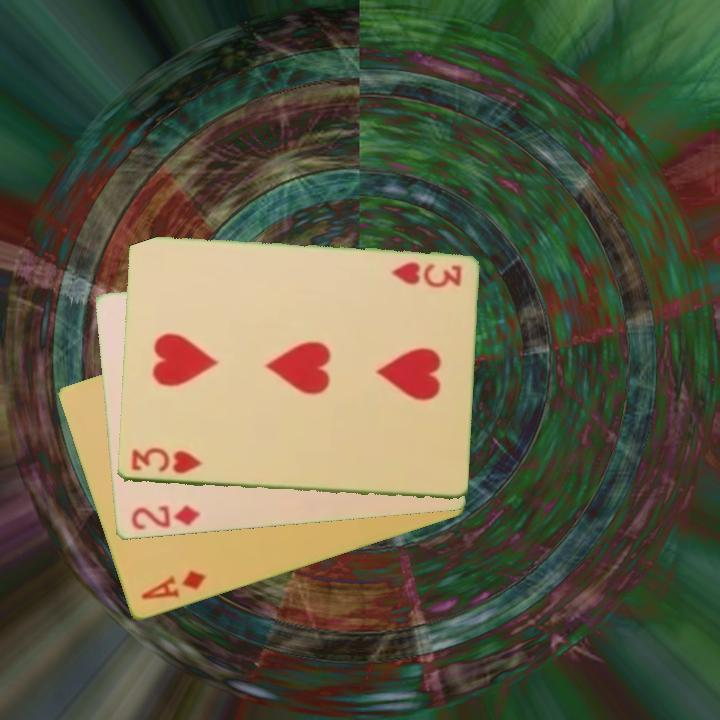2d: (127, 502, 203, 533)
3h: (127, 445, 204, 477), (387, 259, 464, 290)
Ad: (137, 567, 209, 603)
